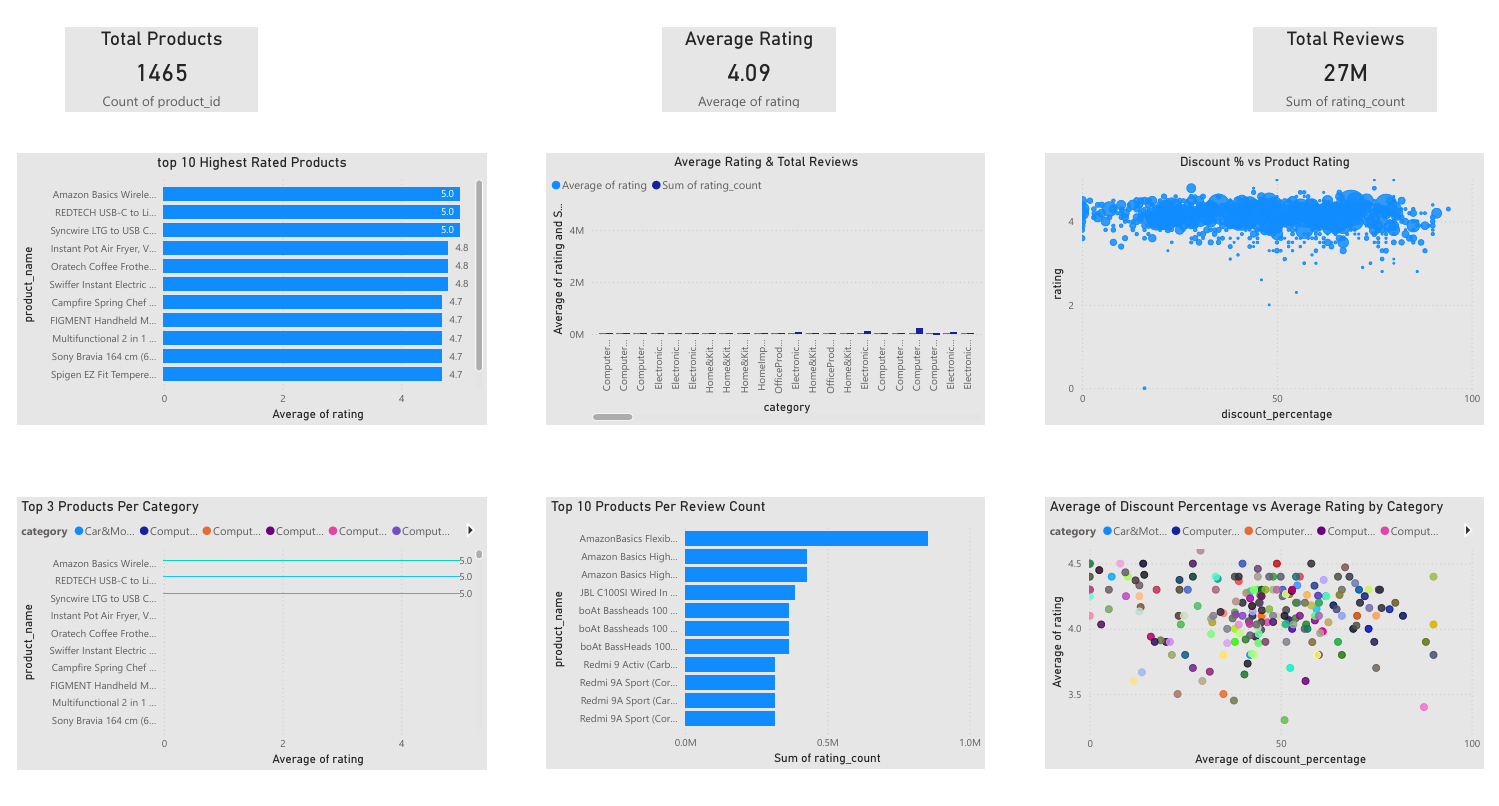

The page's visual inventory and layout, read from the dashboard file:
{"tool":"powerbi","page":{"name":"Page 1","canvas":[1800,1000],"ordinal":0},"visuals":[{"type":"card","title":"Total Products","fields":{"Values":["CountNonNull(amazon_cleaned.product_id)"]},"box":[82.4,23.5,229.4,102],"z":0},{"type":"card","title":"Average Rating","fields":{"Values":["Avg(amazon_cleaned.rating)"]},"box":[796.1,23.5,207.8,102],"z":1000},{"type":"card","title":"Total Reviews ","fields":{"Values":["Sum(amazon_cleaned.rating_count)"]},"box":[1503.9,23.5,219.6,102],"z":2000},{"type":"clusteredBarChart","title":"top 10 Highest Rated Products","fields":{"Category":["amazon_cleaned.product_name"],"Y":["Avg(amazon_cleaned.rating)"]},"box":[23.5,174.5,562.7,325.5],"z":3000},{"type":"clusteredColumnChart","title":"Average Rating & Total Reviews","fields":{"Category":["amazon_cleaned.category"],"Y":["Avg(amazon_cleaned.rating)","Sum(amazon_cleaned.rating_count)"]},"box":[657.8,174.5,525.5,325.5],"z":4000},{"type":"scatterChart","title":"Discount % vs Product Rating","fields":{"X":["amazon_cleaned.discount_percentage"],"Y":["amazon_cleaned.rating"],"Size":["Sum(amazon_cleaned.rating_count)"]},"box":[1254.9,174.5,525.5,325.5],"z":5000},{"type":"clusteredBarChart","title":"Top 3 Products Per Category ","fields":{"Category":["amazon_cleaned.product_name"],"Y":["Avg(amazon_cleaned.rating)"],"Series":["amazon_cleaned.category"]},"box":[23.5,588.2,562.7,325.5],"z":6000},{"type":"clusteredBarChart","title":"Top 10 Products Per Review Count","fields":{"Y":["Sum(amazon_cleaned.rating_count)"],"Category":["amazon_cleaned.product_name"]},"box":[658,588,525,325],"z":7000},{"type":"scatterChart","title":"Average of Discount Percentage vs Average Rating by Category","fields":{"X":["Avg(amazon_cleaned.discount_percentage)"],"Y":["Avg(amazon_cleaned.rating)"],"Series":["amazon_cleaned.category"]},"box":[1255,588,525,325],"z":8000}]}

Visuals, with their boxes on the page's 1800x1000 design canvas (x1, y1, x2, y2). These are canvas units, not pixel positions in the 1499x806 screenshot, which may show the page scaled, cropped or inside an application window:
"Total Products" card: [82, 24, 312, 126]
"Average Rating" card: [796, 24, 1004, 126]
"Total Reviews " card: [1504, 24, 1724, 126]
"top 10 Highest Rated Products" clusteredBarChart: [24, 174, 586, 500]
"Average Rating & Total Reviews" clusteredColumnChart: [658, 174, 1183, 500]
"Discount % vs Product Rating" scatterChart: [1255, 174, 1780, 500]
"Top 3 Products Per Category " clusteredBarChart: [24, 588, 586, 914]
"Top 10 Products Per Review Count" clusteredBarChart: [658, 588, 1183, 913]
"Average of Discount Percentage vs Average Rating by Category" scatterChart: [1255, 588, 1780, 913]
